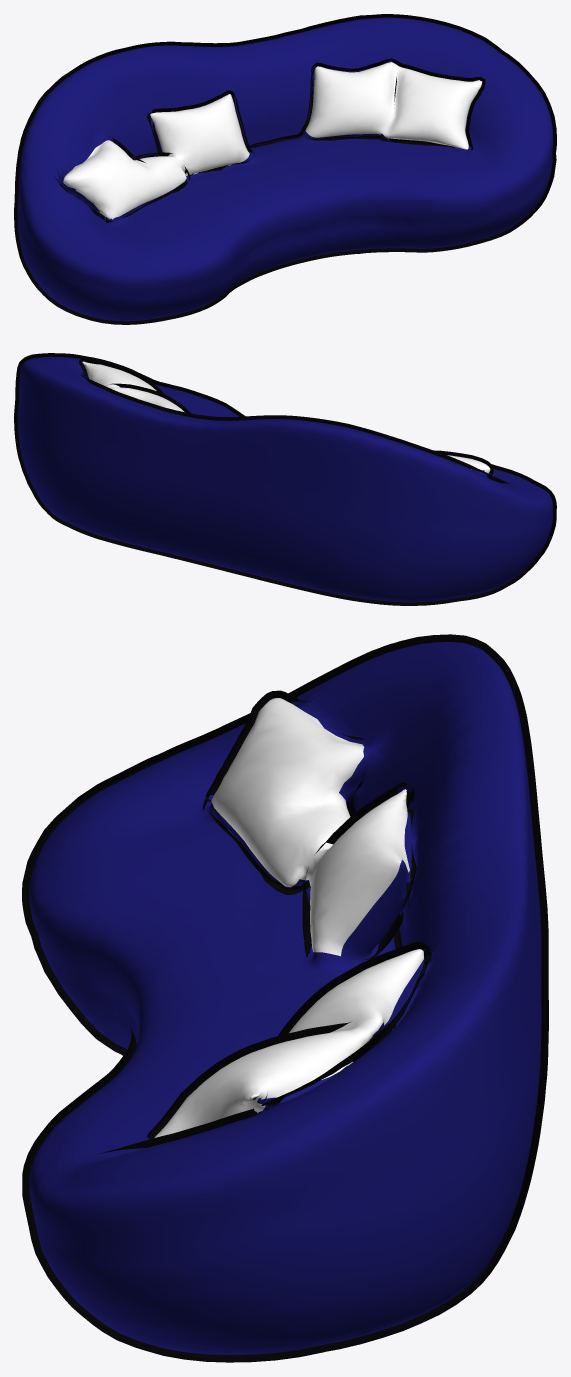
The model's file is furniture_1.glb.
3 renders of one model, top to bottom at view 1: azimuth 30°, elevation 25°; view 2: azimuth 150°, elevation 25°; view 3: azimuth 270°, elevation 25°, orthographic. The views are drawn at different scales.
Parts seen in each view (by area): view 1: Mesh1; view 2: Mesh1; view 3: Mesh1.
Boxes of the visible parts, <box> form: Mesh1: <box>14,14,556,324</box>; Mesh1: <box>14,353,556,605</box>; Mesh1: <box>22,634,548,1362</box>.
Bounding box in the file's own units: 4.74 × 1.64 × 2.12.
